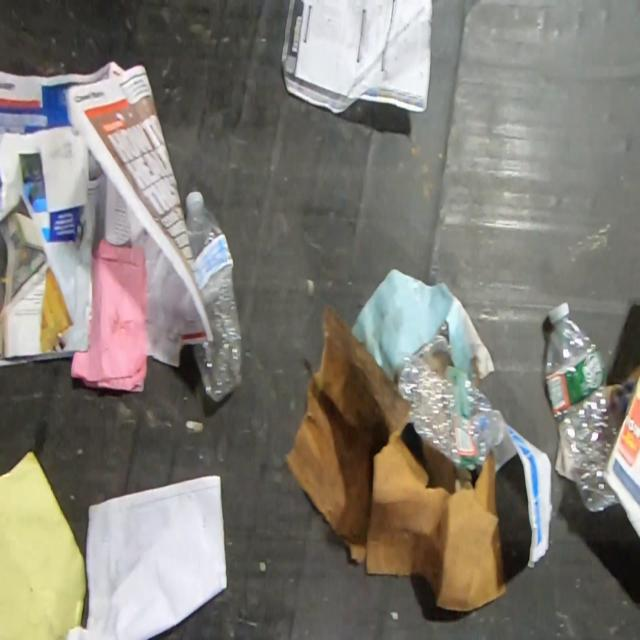cardboard: (40, 267, 74, 353)
rigid_plastic: (395, 322, 508, 475), (544, 298, 621, 514), (184, 188, 244, 406)
